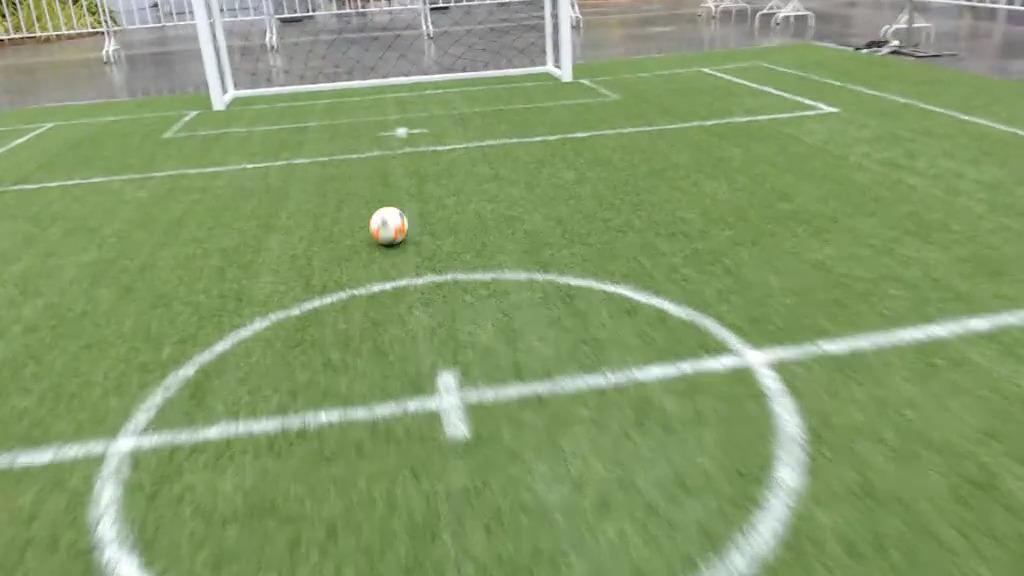ball: (361, 199, 414, 252)
